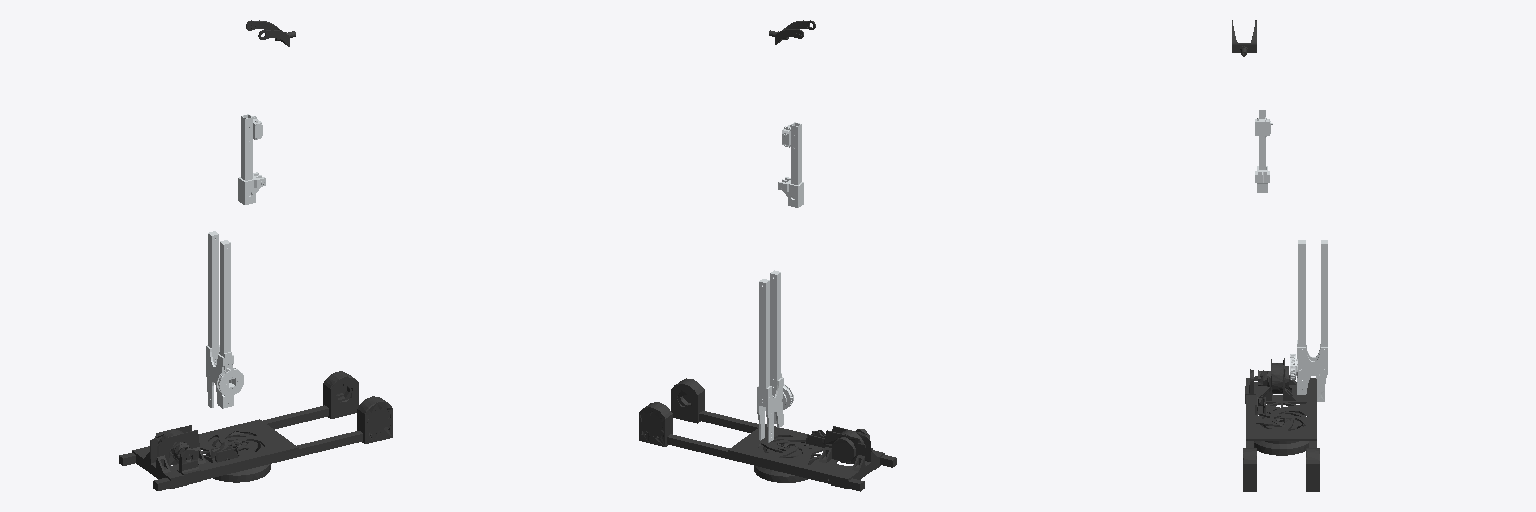
URDF robot description (robotic_arm):
<?xml version="1.0" encoding="utf-8"?>
<!-- This URDF was automatically created by SolidWorks to URDF Exporter! Originally created by Stephen Brawner (brawner@gmail.com) 
     Commit Version: 1.6.0-4-g7f85cfe  Build Version: 1.6.7995.38578
     For more information, please see http://wiki.ros.org/sw_urdf_exporter -->
<robot
  name="robotic_arm">

  <ros2_control name="arm_hw" type="system">
    <hardware>
    <!-- 自己编写控制器软件包的命名空间和类名 -->
      <plugin>mycontroller/MyControl</plugin>
    </hardware>

    <joint name="joint1">
      <command_interface name="position"/>
      <command_interface name="velocity"/>
      <command_interface name="effort"/>
      <state_interface name="position"/>
      <state_interface name="velocity"/>
      <state_interface name="effort"/>
    </joint>

    <joint name="joint2">
      <command_interface name="position"/>
      <command_interface name="velocity"/>
      <command_interface name="effort"/>
      <state_interface name="position"/>
      <state_interface name="velocity"/>
      <state_interface name="effort"/>
    </joint>

    <joint name="joint3">
      <command_interface name="position"/>
      <command_interface name="velocity"/>
      <command_interface name="effort"/>
      <state_interface name="position"/>
      <state_interface name="velocity"/>
      <state_interface name="effort"/>
    </joint>

    <joint name="joint4">
      <command_interface name="position"/>
      <command_interface name="velocity"/>
      <command_interface name="effort"/>
      <state_interface name="position"/>
      <state_interface name="velocity"/>
      <state_interface name="effort"/>
    </joint>

    <joint name="joint5">
      <command_interface name="position"/>
      <command_interface name="velocity"/>
      <command_interface name="effort"/>
      <state_interface name="position"/>
      <state_interface name="velocity"/>
      <state_interface name="effort"/>
    </joint>

    <joint name="joint6">
      <command_interface name="position"/>
      <command_interface name="velocity"/>
      <command_interface name="effort"/>
      <state_interface name="position"/>
      <state_interface name="velocity"/>
      <state_interface name="effort"/>
    </joint>

</ros2_control>
  <!-- 虚拟根链接，解决KDL根链接惯量问题 -->
  <link name="world"/>
  <joint name="world_to_base" type="fixed">
    <parent link="world"/>
    <child link="base_link"/>
    <origin xyz="0 0 0" rpy="0 0 0"/>
  </joint>
  <link
    name="base_link">
    <inertial>
      <origin
        xyz="-0.0091691 0.00025382 0.018962"
        rpy="0 0 0" />
      <mass
        value="1.0998" />
      <inertia
        ixx="0.0018714"
        ixy="5.0546E-06"
        ixz="8.4992E-08"
        iyy="0.0021258"
        iyz="1.3828E-07"
        izz="0.0039568" />
    </inertial>
    <visual>
      <origin
        xyz="0 0 0"
        rpy="0 0 0" />
      <geometry>
        <mesh
          filename="package://arm/model/base_link.STL" />
      </geometry>
      <material
        name="">
        <color
          rgba="0.29412 0.29412 0.29412 1" />
      </material>
    </visual>
    <collision>
      <origin
        xyz="0 0 0"
        rpy="0 0 0" />
      <geometry>
        <mesh
          filename="package://arm/model/base_link.STL" />
      </geometry>
    </collision>
  </link>
  <link
    name="link1">
    <inertial>
      <origin
        xyz="7.43358623475285E-06 0.023889111022454 0.0983534461817423"
        rpy="0 0 0" />
      <mass
        value="2.34956808405639" />
      <inertia
        ixx="0.00573875484676502"
        ixy="-2.00357397760014E-07"
        ixz="1.05499338060549E-06"
        iyy="0.0081459637209077"
        iyz="2.40543211978046E-05"
        izz="0.00840985861180689" />
    </inertial>
    <visual>
      <origin
        xyz="0 0 0"
        rpy="0 0 0" />
      <geometry>
        <mesh
          filename="package://arm/model/link1.STL" />
      </geometry>
      <material
        name="">
        <color
          rgba="0.294117647058824 0.294117647058824 0.294117647058824 1" />
      </material>
    </visual>
    <collision>
      <origin
        xyz="0 0 0"
        rpy="0 0 0" />
      <geometry>
        <mesh
          filename="package://arm/model/link1.STL" />
      </geometry>
    </collision>
  </link>
  <joint
    name="joint1"
    type="revolute">
    <origin
      xyz="0 0 0"
      rpy="0 0 0" />
    <parent
      link="base_link" />
    <child
      link="link1" />
    <axis
      xyz="0 0 1" />
    <limit
      lower="-6.283185307"
      upper="6.283185307"
      effort="50"
      velocity="10" />
  </joint>
  <link
    name="link2">
    <inertial>
      <origin
        xyz="0.31324601008515 -0.000831742439412309 0.0364273369229759"
        rpy="0 0 0" />
      <mass
        value="1.23727124080295" />
      <inertia
        ixx="0.000574698570546715"
        ixy="6.7861884473848E-07"
        ixz="6.52827071680354E-05"
        iyy="0.0139530728630749"
        iyz="1.73022939218074E-06"
        izz="0.0142113056179225" />
    </inertial>
    <visual>
      <origin
        xyz="0 0 0"
        rpy="0 0 0" />
      <geometry>
        <mesh
          filename="package://arm/model/link2.STL" />
      </geometry>
      <material
        name="">
        <color
          rgba="0.898039215686275 0.917647058823529 0.929411764705882 1" />
      </material>
    </visual>
    <collision>
      <origin
        xyz="0 0 0"
        rpy="0 0 0" />
      <geometry>
        <mesh
          filename="package://arm/model/link2.STL" />
      </geometry>
    </collision>
  </link>
  <joint
    name="joint2"
    type="revolute">
    <origin
      xyz="0 0.03675 0.153"
      rpy="1.5708 -1.5708 0" />
    <parent
      link="link1" />
    <child
      link="link2" />
    <axis
      xyz="0 0 1" />
    <limit
      lower="-1.570796327"
      upper="1.570796327"
      effort="50"
      velocity="10" />
  </joint>
  <link
    name="link3">
    <inertial>
      <origin
        xyz="0.271920716707995 -0.000176719212418436 -0.0120138921627069"
        rpy="0 0 0" />
      <mass
        value="0.370266089775016" />
      <inertia
        ixx="0.000130367133133288"
        ixy="6.8904580007452E-07"
        ixz="-1.94899942108088E-06"
        iyy="0.0026767489060302"
        iyz="-1.73328221772745E-07"
        izz="0.00278032819630172" />
    </inertial>
    <visual>
      <origin
        xyz="0 0 0"
        rpy="0 0 0" />
      <geometry>
        <mesh
          filename="package://arm/model/link3.STL" />
      </geometry>
      <material
        name="">
        <color
          rgba="0.898039215686275 0.917647058823529 0.929411764705882 1" />
      </material>
    </visual>
    <collision>
      <origin
        xyz="0 0 0"
        rpy="0 0 0" />
      <geometry>
        <mesh
          filename="package://arm/model/link3.STL" />
      </geometry>
    </collision>
  </link>
  <joint
    name="joint3"
    type="revolute">
    <origin
      xyz="0.52 0 0.08565"
      rpy="0 0 0" />
    <parent
      link="link2" />
    <child
      link="link3" />
    <axis
      xyz="0 0 1" />
    <limit
      lower="-3.141592654"
      upper="3.141592654"
      effort="50"
      velocity="10" />
  </joint>
  <link
    name="link4">
    <inertial>
      <origin
        xyz="0.101739291148925 0.0561668504993356 -0.0293841566997596"
        rpy="0 0 0" />
      <mass
        value="1.54177209165349" />
      <inertia
        ixx="0.000889042299025289"
        ixy="-2.00979301144906E-06"
        ixz="1.14560649951194E-05"
        iyy="0.000902753866766143"
        iyz="4.25131749155067E-08"
        izz="0.000270000371052934" />
    </inertial>
    <visual>
      <origin
        xyz="0 0 0"
        rpy="0 0 0" />
      <geometry>
        <mesh
          filename="package://arm/model/link4.STL" />
      </geometry>
      <material
        name="">
        <color
          rgba="0.294117647058824 0.294117647058824 0.294117647058824 1" />
      </material>
    </visual>
    <collision>
      <origin
        xyz="0 0 0"
        rpy="0 0 0" />
      <geometry>
        <mesh
          filename="package://arm/model/link4.STL" />
      </geometry>
    </collision>
  </link>
  <joint
    name="joint4"
    type="revolute">
    <origin
      xyz="0.436 0 0.0225"
      rpy="0 0 0" />
    <parent
      link="link3" />
    <child
      link="link4" />
    <axis
      xyz="0 0 1" />
    <limit
      lower="-3.141592654"
      upper="3.141592654"
      effort="50"
      velocity="10" />
  </joint>
  <link
    name="link5">
    <inertial>
      <origin
        xyz="0.0486576553457728 0.00239487174403753 0.00012705522061713"
        rpy="0 0 0" />
      <mass
        value="0.0698721570199944" />
      <inertia
        ixx="1.56377401050224E-05"
        ixy="-2.12604880279856E-07"
        ixz="-4.57425787908851E-21"
        iyy="1.97786334057882E-05"
        iyz="2.67416707819328E-21"
        izz="2.26007956299793E-05" />
    </inertial>
    <visual>
      <origin
        xyz="0 0 0"
        rpy="0 0 0" />
      <geometry>
        <mesh
          filename="package://arm/model/link5.STL" />
      </geometry>
      <material
        name="">
        <color
          rgba="0.294117647058824 0.294117647058824 0.294117647058824 1" />
      </material>
    </visual>
    <collision>
      <origin
        xyz="0 0 0"
        rpy="0 0 0" />
      <geometry>
        <mesh
          filename="package://arm/model/link5.STL" />
      </geometry>
    </collision>
  </link>
  <joint
    name="joint5"
    type="revolute">
    <origin
      xyz="0.07761 -0.0058889 -0.03035"
      rpy="-1.5708 0 0" />
    <parent
      link="link4" />
    <child
      link="link5" />
    <axis
      xyz="0 0 1" />
    <limit
      lower="-0.610865238"
      upper="0.610865238"
      effort="50"
      velocity="10" />
  </joint>
  <link
    name="link6">
    <inertial>
      <origin
        xyz="1.1369377661552E-14 3.51232931627976E-13 0.0193009014981094"
        rpy="0 0 0" />
      <mass
        value="0.128099358994803" />
      <inertia
        ixx="6.47696731838478E-05"
        ixy="9.75275553763421E-22"
        ixz="-2.32600096593007E-21"
        iyy="6.47696731838478E-05"
        iyz="-1.86347248395946E-20"
        izz="9.58412456894771E-05" />
    </inertial>
    <visual>
      <origin
        xyz="0 0 0"
        rpy="0 0 0" />
      <geometry>
        <mesh
          filename="package://arm/model/link6.STL" />
      </geometry>
      <material
        name="">
        <color
          rgba="1 1 1 1" />
      </material>
    </visual>
    <collision>
      <origin
        xyz="0 0 0"
        rpy="0 0 0" />
      <geometry>
        <mesh
          filename="package://arm/model/link6.STL" />
      </geometry>
    </collision>
  </link>
  <joint
    name="joint6"
    type="revolute">
    <origin
      xyz="0.073796 0.0036822 8.8922E-05"
      rpy="0 -1.5708 0" />
    <parent
      link="link5" />
    <child
      link="link6" />
    <axis
      xyz="0 0 1" />
    <limit
      lower="-3.14159"
      upper="3.14159"
      effort="50"
      velocity="10" />
  </joint>
</robot>

--- Facts derived from the render (not from the file) ---
The picture shows the robot from 3 angles, left to right: view 1: azimuth 30°, elevation 25°; view 2: azimuth 150°, elevation 25°; view 3: azimuth 270°, elevation 25°; orthographic projection.
Robot: robotic_arm — 8 links, 7 joints (6 revolute, 1 fixed); root link world; default pose: every joint at zero.
Links seen in each view (by area): view 1: link1, link2, link3, link4; view 2: link1, link2, link3; view 3: link1, link2, link3.
Boxes of the visible links, x1,y1,x2,y2 form: link1: (119, 371, 392, 490); link2: (206, 231, 243, 408); link3: (238, 114, 265, 204); link4: (246, 20, 295, 46); link1: (639, 378, 896, 491); link2: (757, 270, 793, 442); link3: (778, 122, 803, 207); link1: (1243, 358, 1319, 491); link2: (1290, 240, 1327, 401); link3: (1255, 110, 1272, 192).
Bounding box of the posed robot: 0.63 × 0.2457 × 1.18 m (x, y, z).
4 mesh visuals loaded from 7 distinct referenced files (4 binary STL); not drawn: 3 (reference not matched to a file when rendering).
